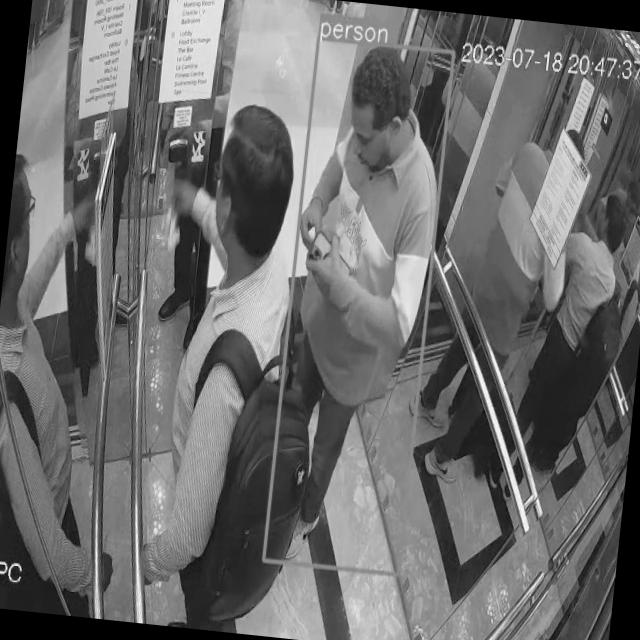person: (122, 91, 344, 638), (267, 38, 454, 577), (0, 125, 158, 619), (502, 180, 640, 517)
